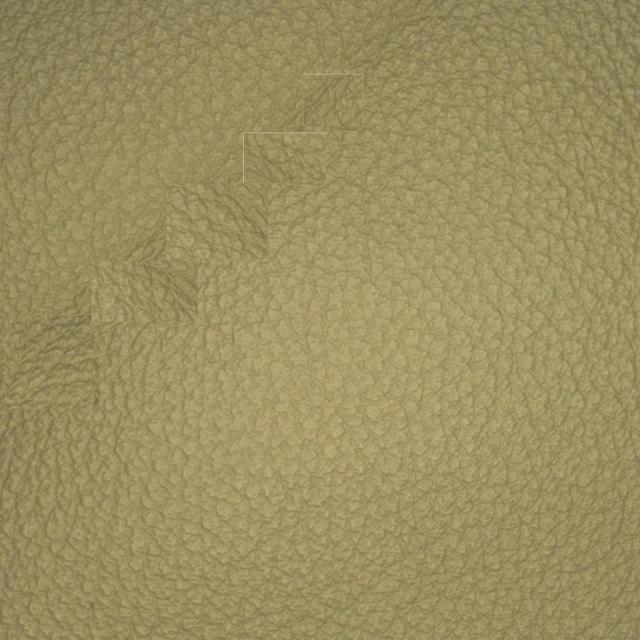Healed Injury: (158, 158, 304, 302), (25, 281, 167, 417), (267, 48, 398, 190)
